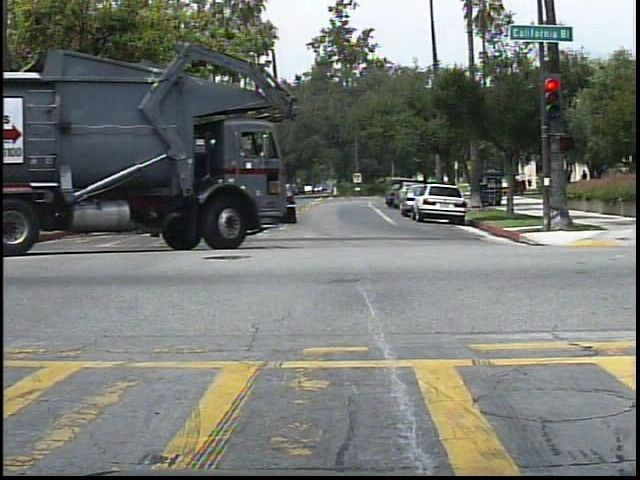person: (575, 163, 594, 194)
